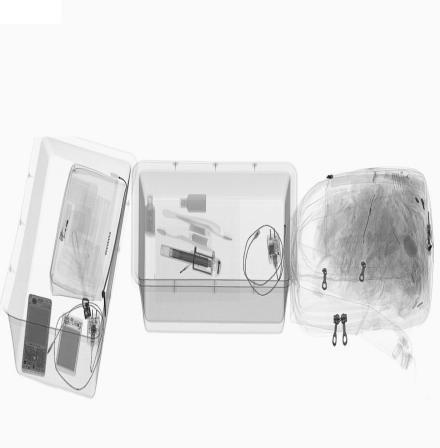Lighter: (58, 200, 73, 242)
